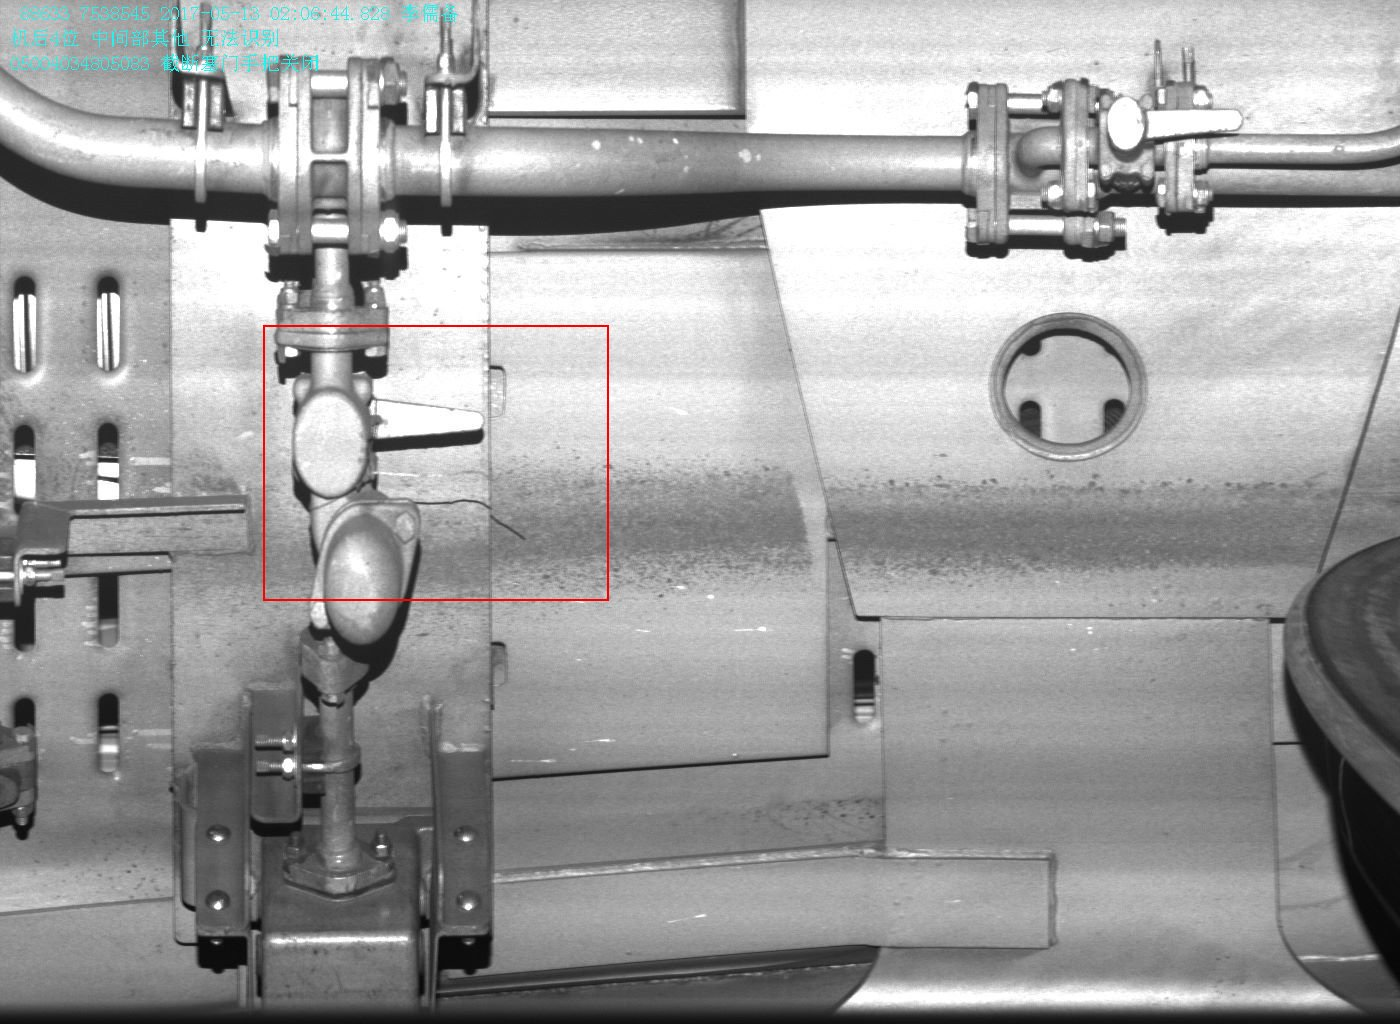truncated plug door handle: (290, 376, 486, 500)
